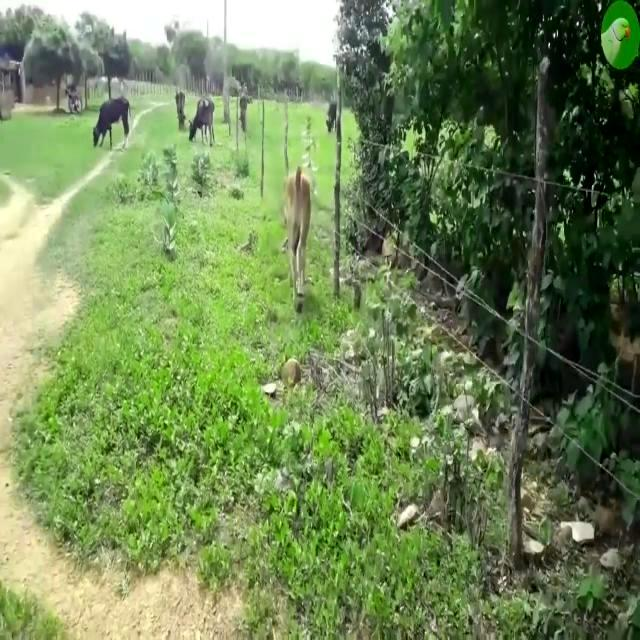COW: (286, 168, 311, 312)
